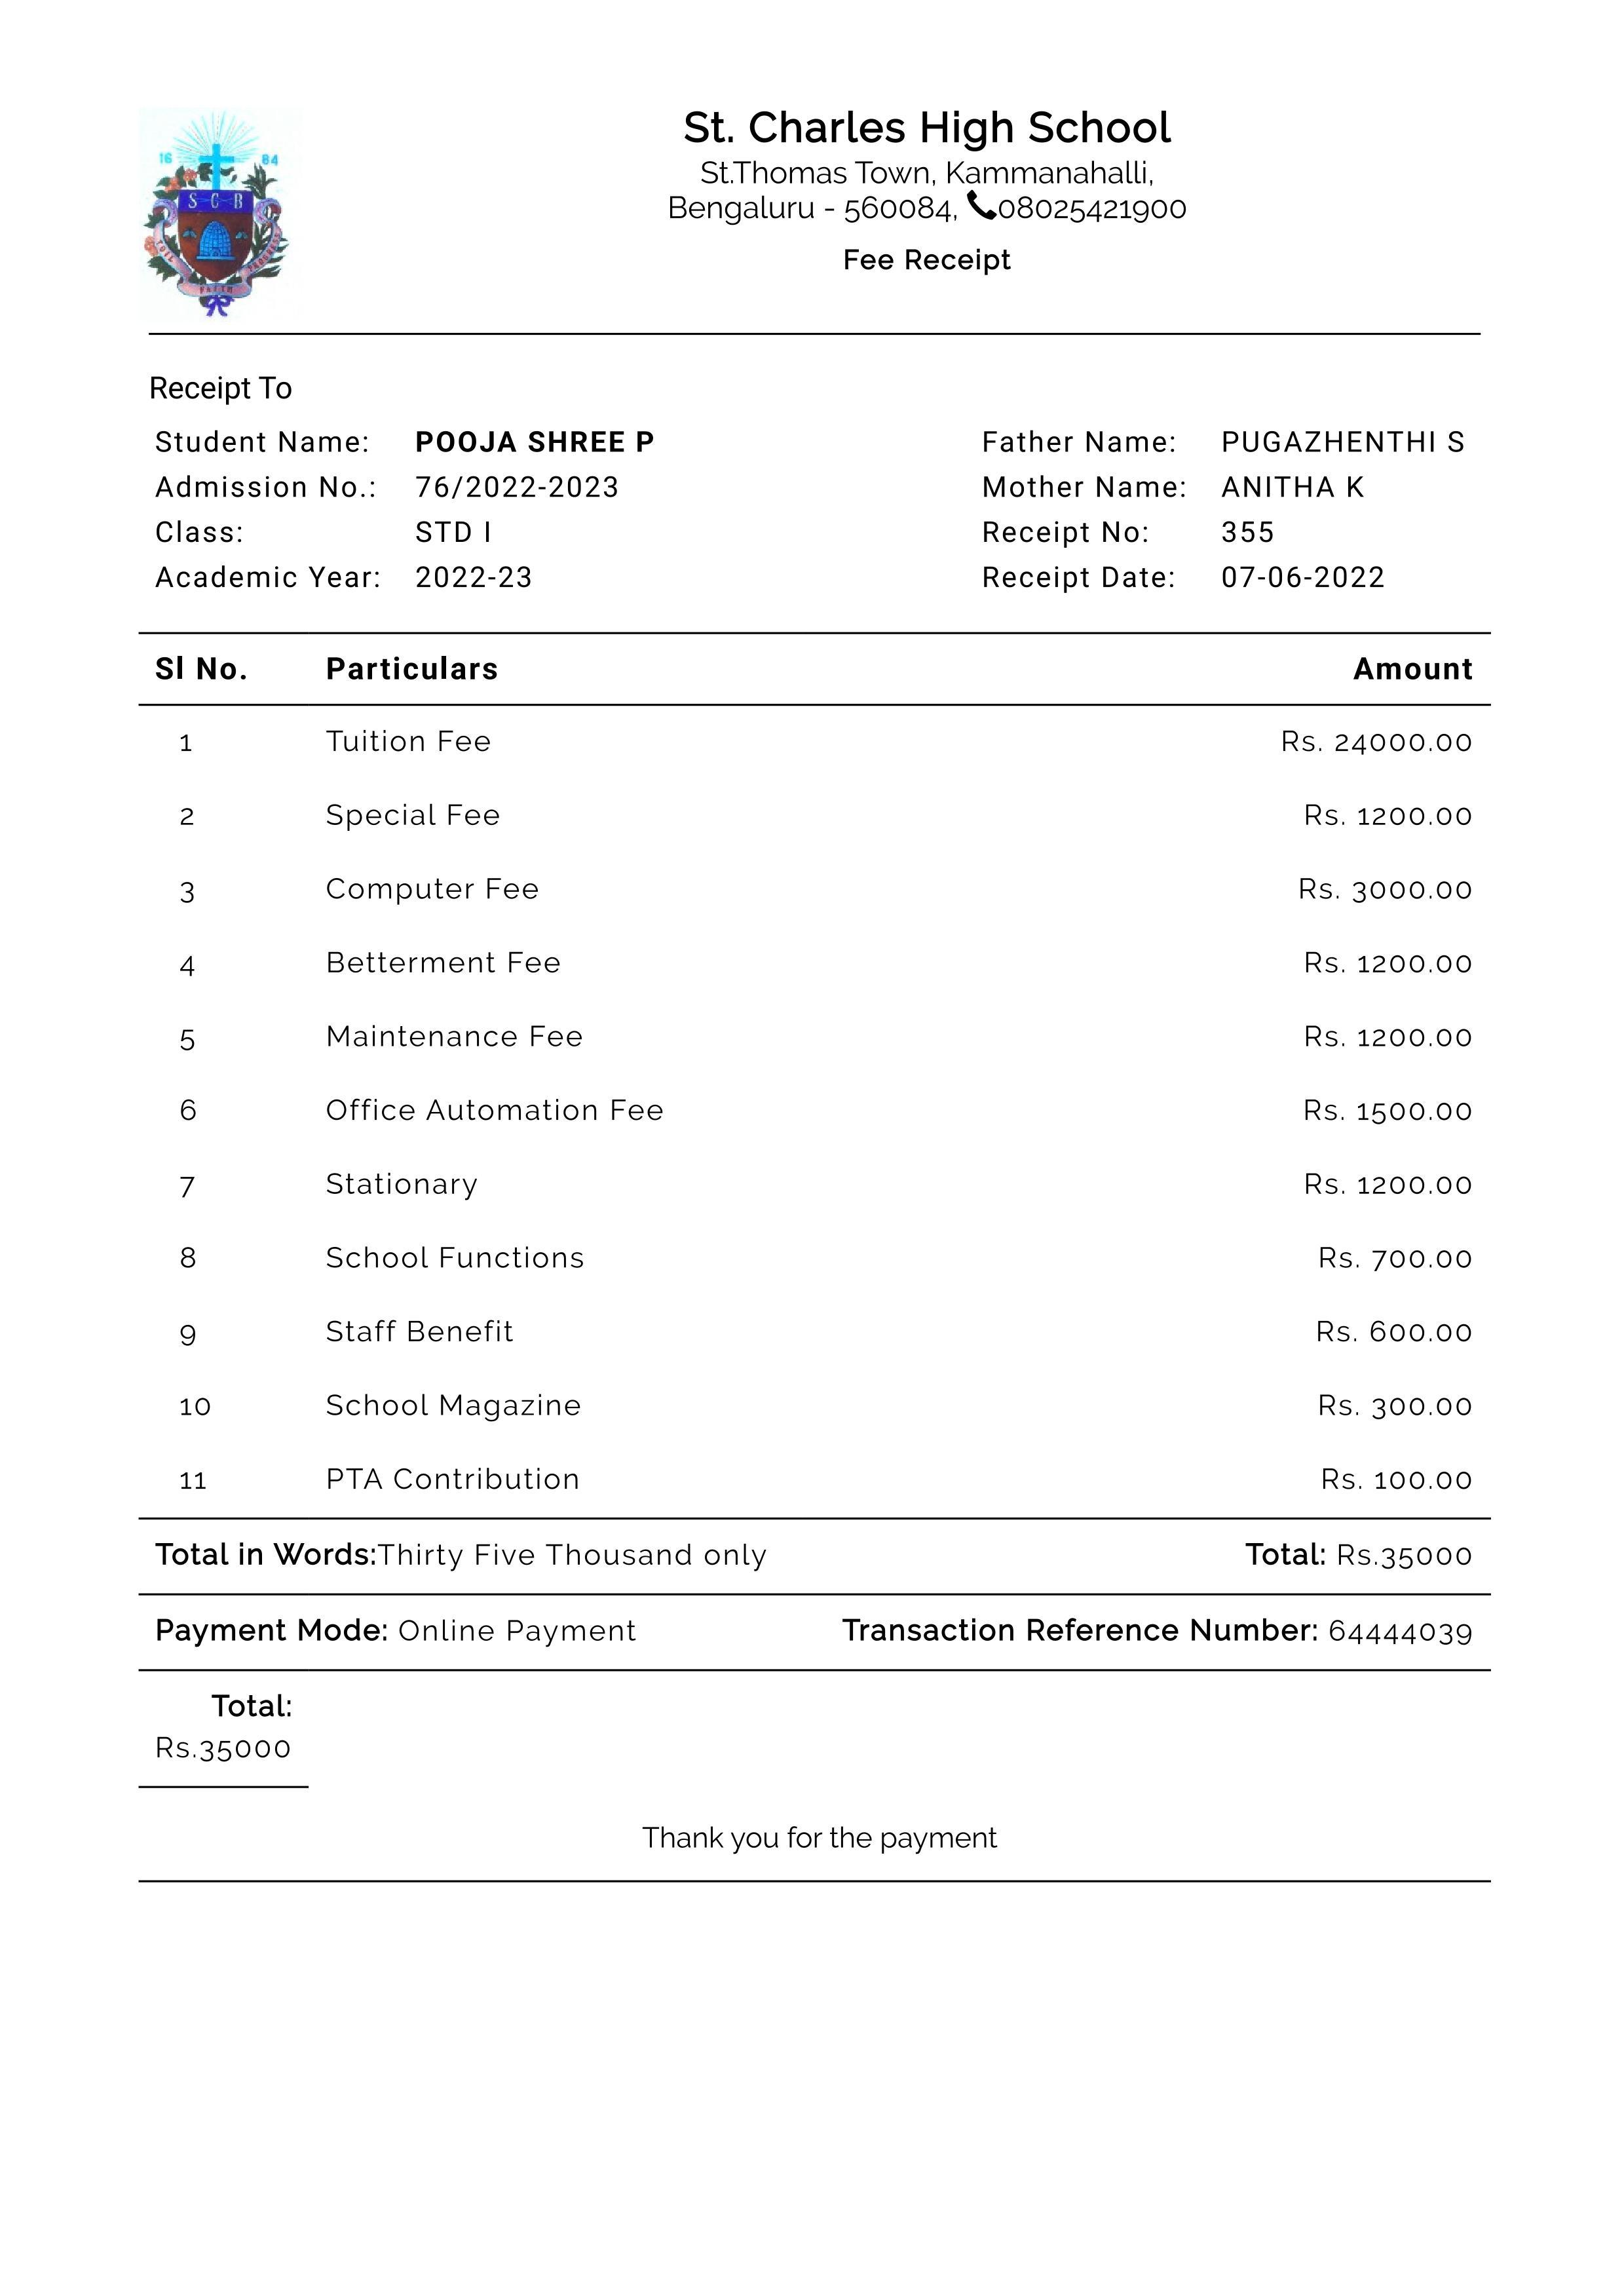InvoiceDate: (1213, 556, 1396, 594)
InvoiceNumber: (1209, 506, 1292, 547)
TotalAmount: (1341, 1547, 1476, 1577)
